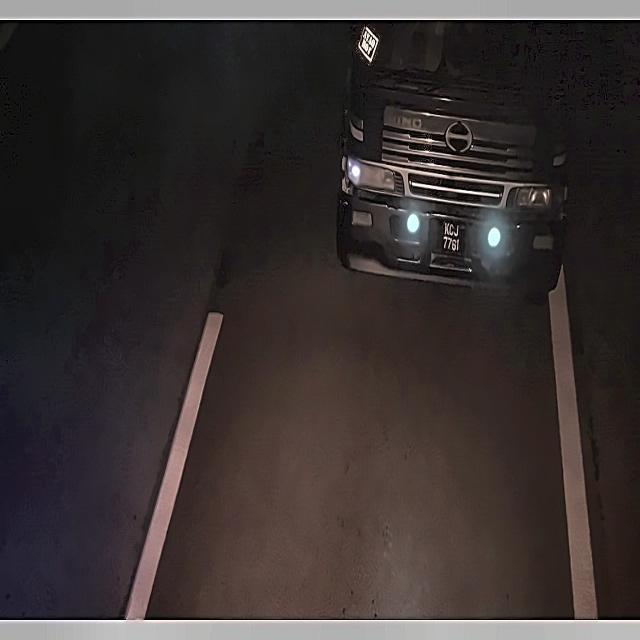car: (432, 208, 469, 267)
